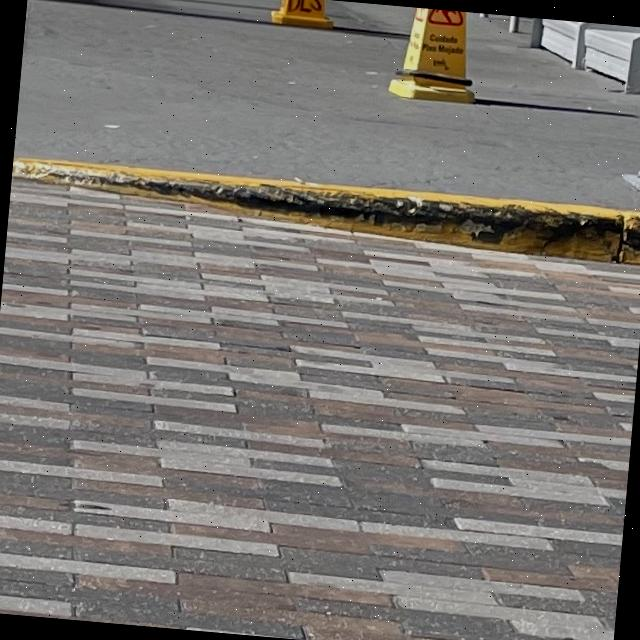curb: (12, 158, 640, 263)
